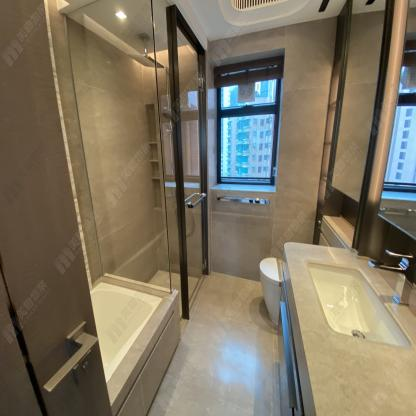Bathtub: (89, 281, 181, 416)
Exhaust Fan: (238, 83, 255, 102)
Faucet: (368, 242, 415, 306)
Toilet: (260, 257, 283, 324)
Toilet Sink: (285, 241, 416, 365)
Water Cubicle: (64, 0, 212, 320)
